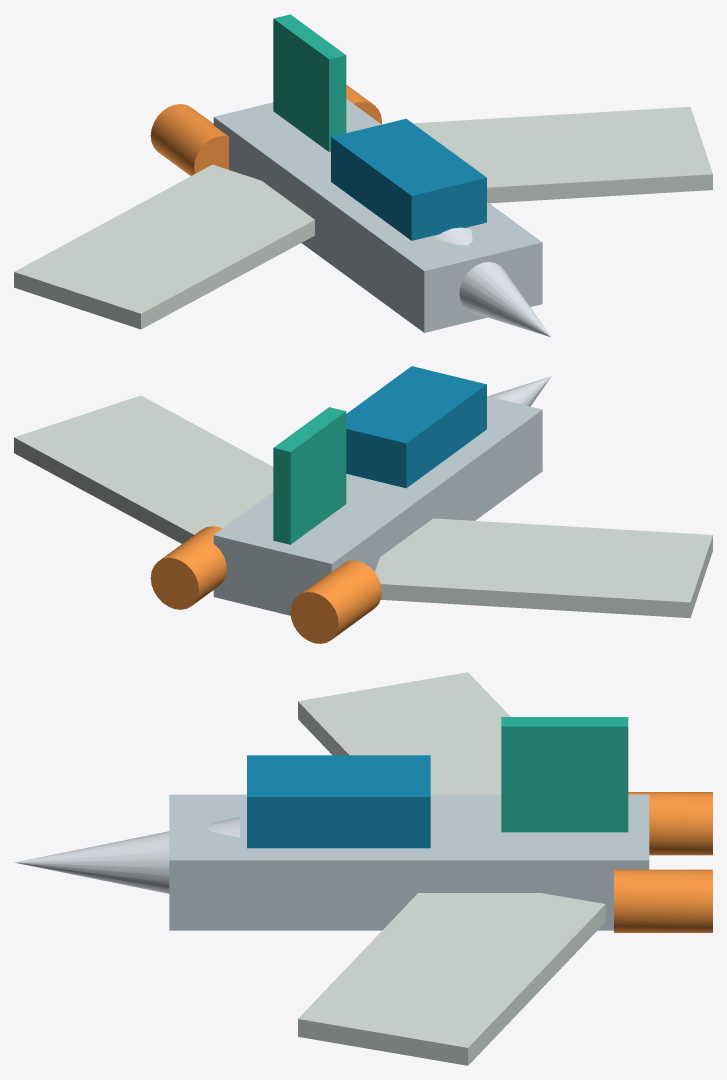
The model's file is fighter.glb.
3 renders of one model, top to bottom at view 1: azimuth 30°, elevation 25°; view 2: azimuth 150°, elevation 25°; view 3: azimuth 270°, elevation 25°, orthographic. The views are drawn at different scales.
Visible parts, largest first — view 1: Left wing, Hull, Right wing, Canopy, Fin, Engine (×2), Nose; view 2: Left wing, Hull, Right wing, Canopy, Engine (×2), Fin, Nose; view 3: Hull, Right wing, Canopy, Left wing, Fin, Engine (×2), Nose.
Boxes of the visible parts, x1,y1,x2,y2 form: Left wing: (14, 164, 314, 329); Hull: (213, 99, 542, 332); Right wing: (413, 107, 712, 203); Canopy: (331, 118, 486, 240); Fin: (273, 14, 346, 151); Engine (×2): (150, 85, 381, 175); Nose: (434, 227, 551, 337); Left wing: (375, 518, 712, 618); Hull: (213, 396, 542, 615); Right wing: (14, 395, 273, 543); Canopy: (346, 366, 486, 488); Engine (×2): (150, 526, 381, 643); Fin: (273, 407, 346, 544); Nose: (488, 376, 551, 406); Hull: (169, 794, 649, 930); Right wing: (298, 893, 605, 1065); Canopy: (247, 755, 430, 848); Left wing: (298, 672, 510, 794); Fin: (501, 717, 628, 832); Engine (×2): (614, 792, 712, 932); Nose: (14, 817, 239, 893).
Bounding box in the file's own units: 6.3 × 1.43 × 4.95.
